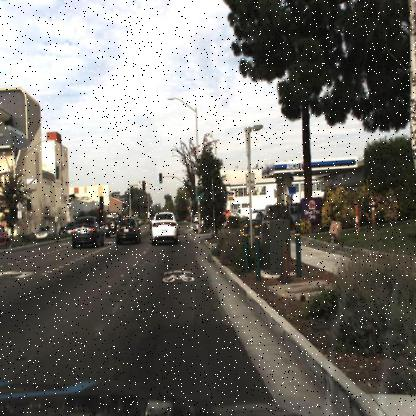car: (68, 212, 103, 250), (150, 209, 178, 248), (116, 216, 142, 250), (31, 223, 56, 247), (102, 213, 121, 237), (246, 201, 264, 224), (230, 201, 247, 225), (34, 224, 50, 242)
trafficLight-Green: (156, 168, 165, 184)
trafficLight-Red: (139, 177, 147, 194), (128, 185, 134, 199)
